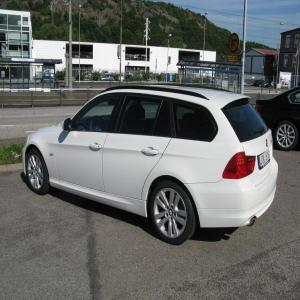Vehicle-registration-plate: (258, 149, 271, 171)
